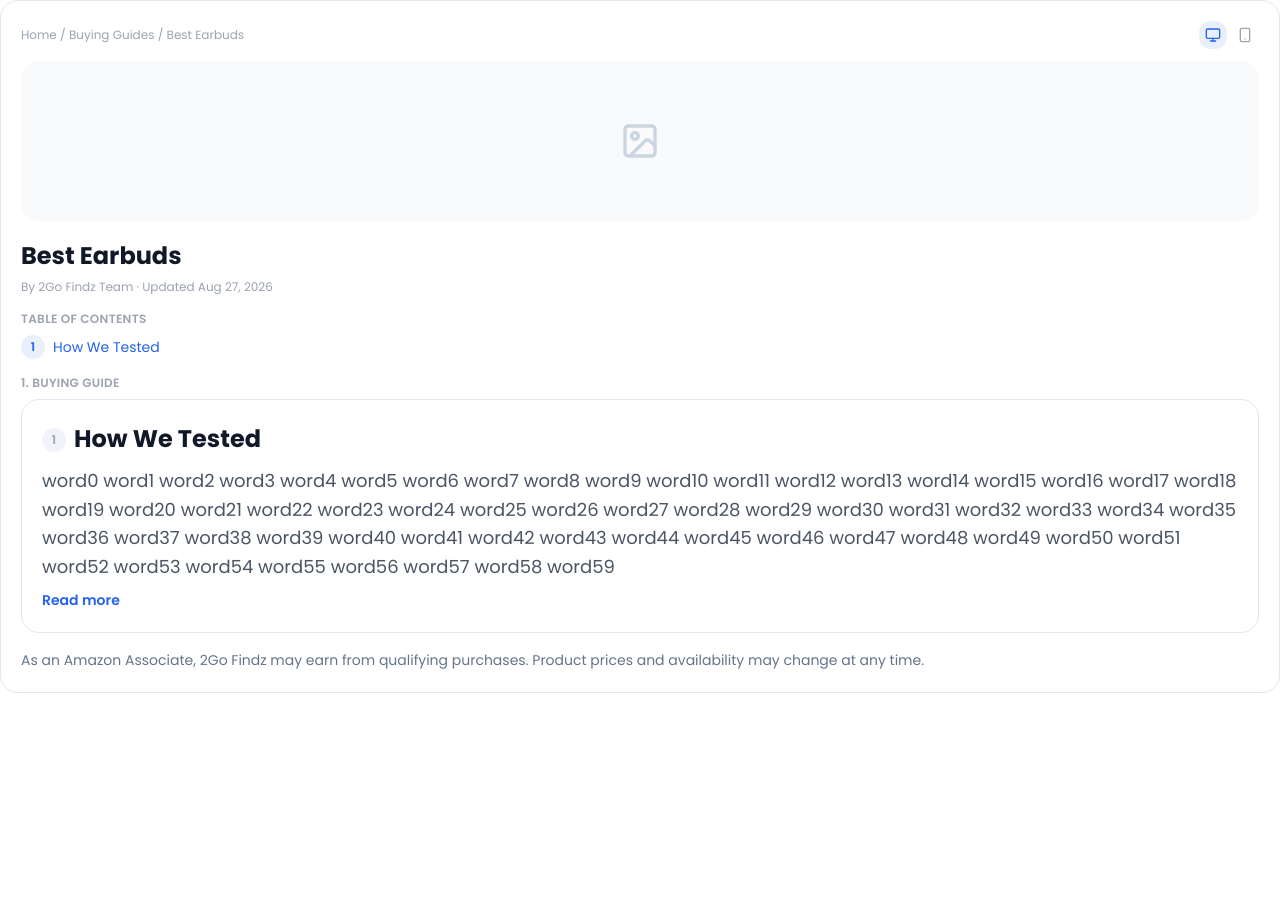
LivePreview › shows a Read more toggle for long section content and expands on click
Step 1. Click the button "Read more" → {"x": 81, "y": 600}, box [42,590,120,610]
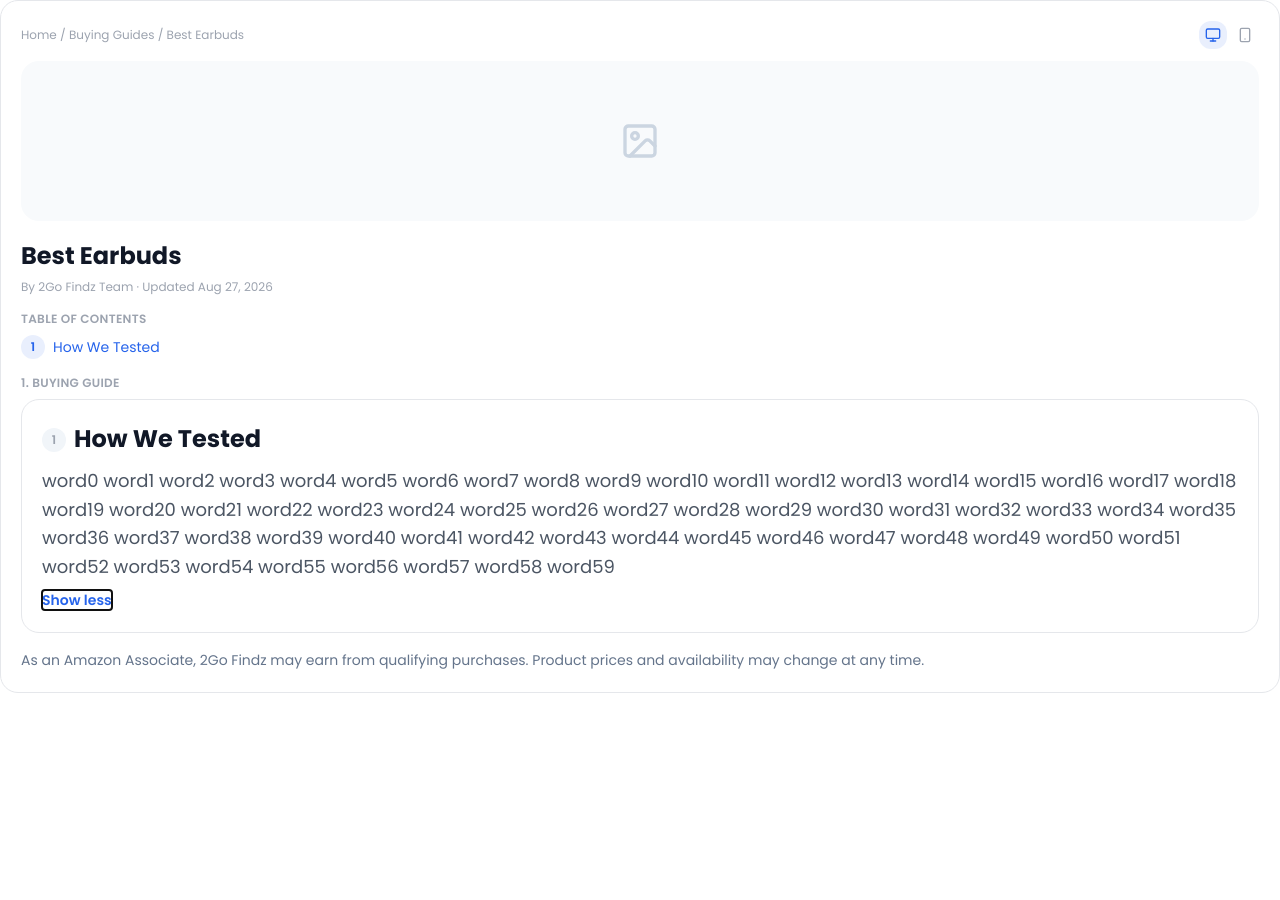
Result: the button "Show less" is shown at [42,590,112,610]
